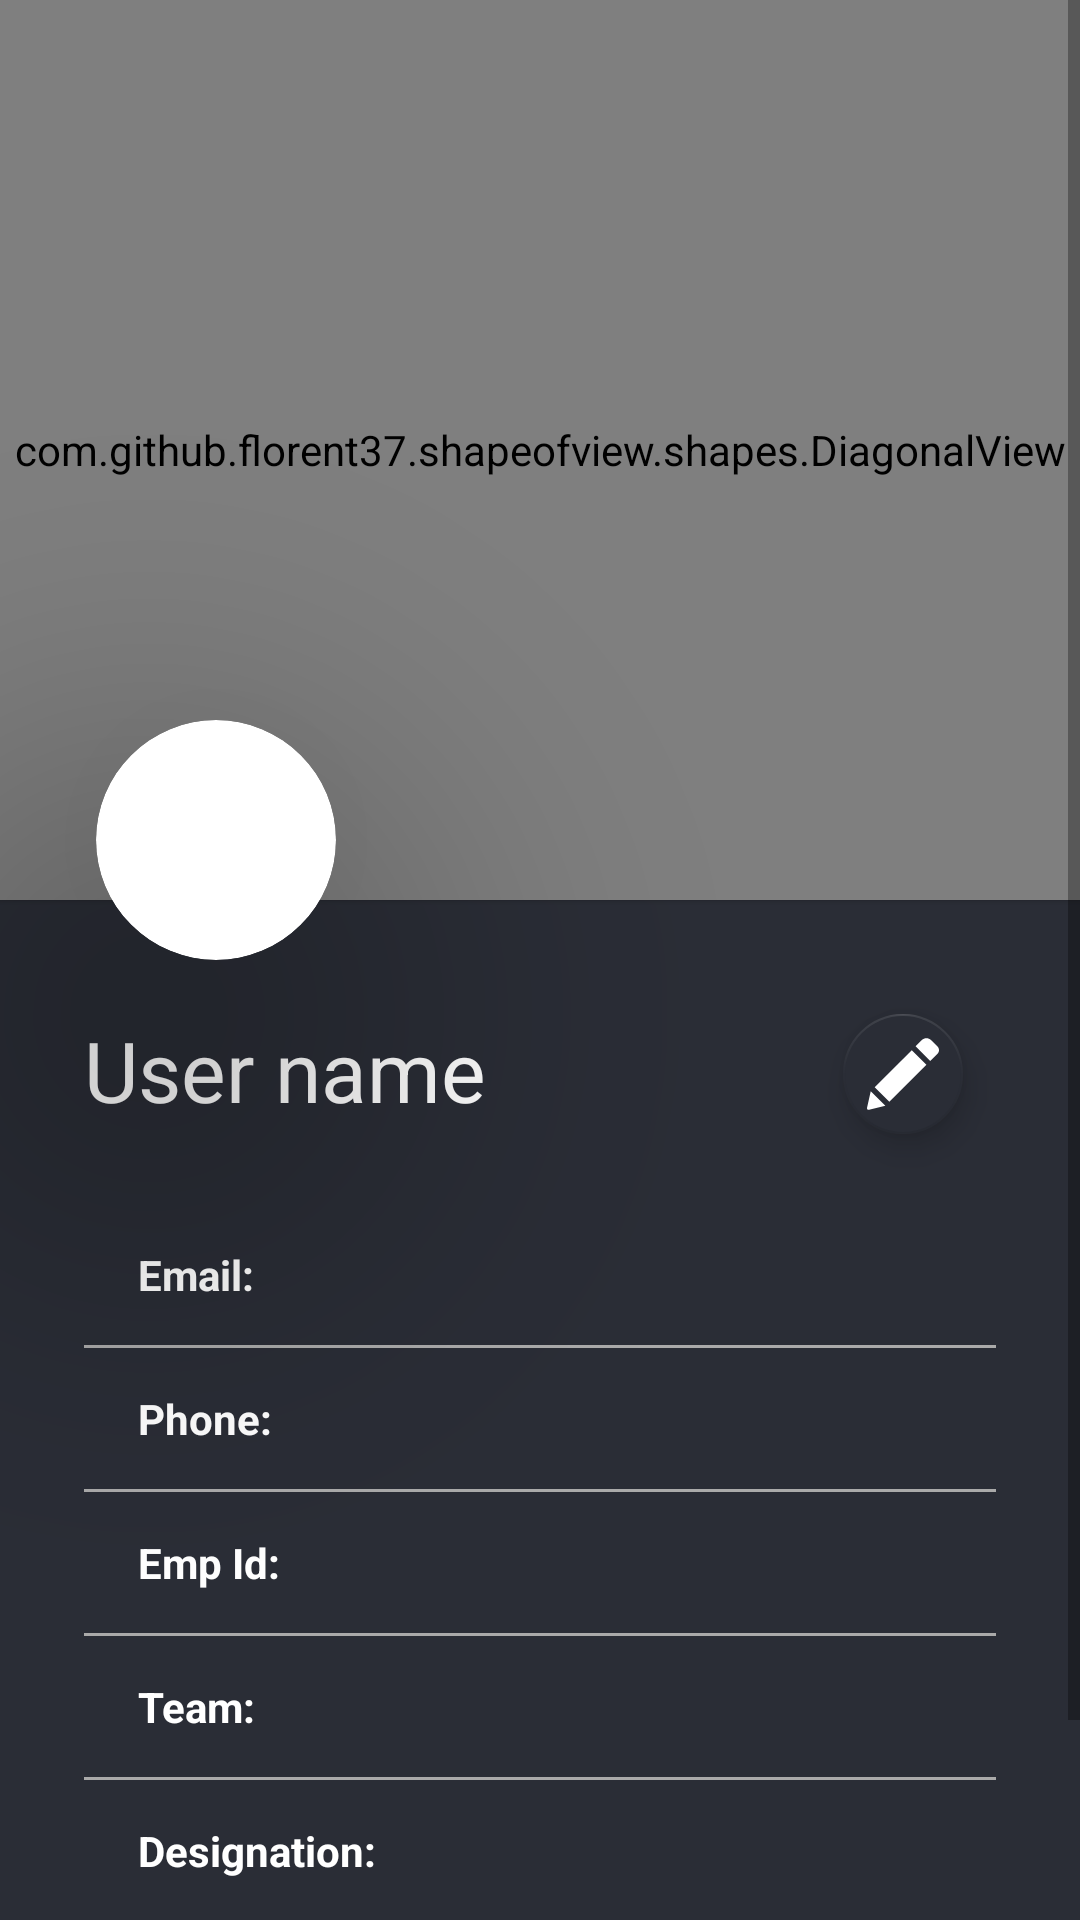

Point at icon controls on the screen. Image size 1080px×1920px, points as [x,y].
pencil: [903,1062]
